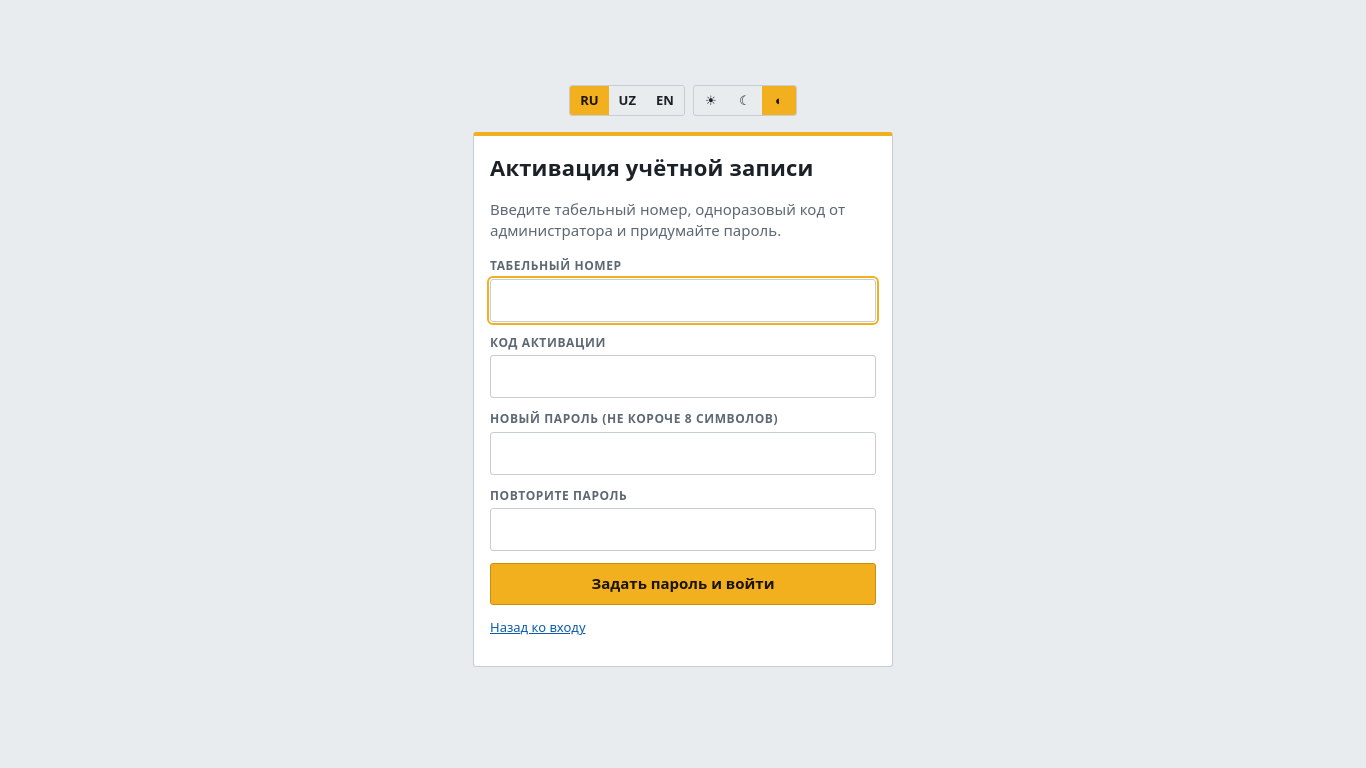
Test: активация › успешная активация входит в систему
Type "9" into the field labelled "Табельный номер".
click(683, 300); type("9")  # box left=490, top=278, right=876, bottom=322
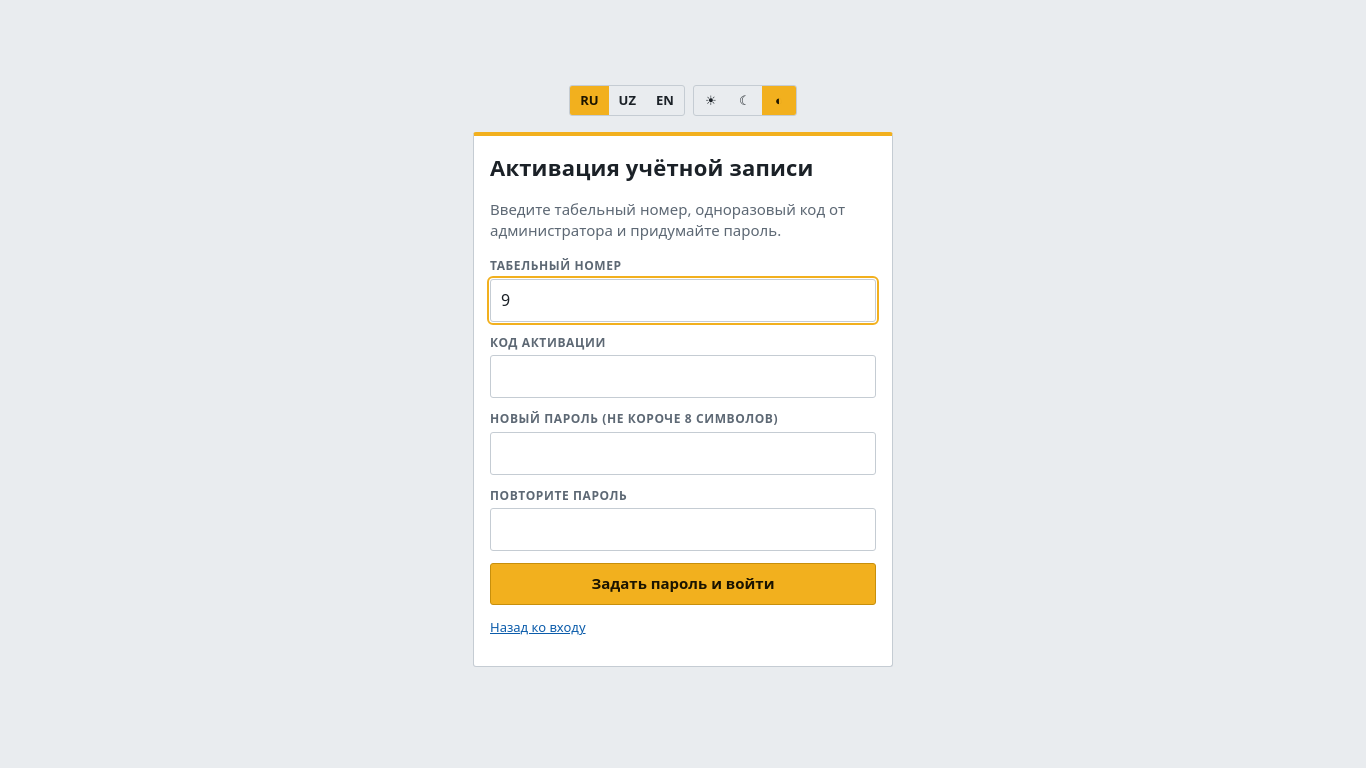
Type "ABCD-2345" into the field labelled "Код активации".
click(683, 377); type("ABCD-2345")  # box left=490, top=355, right=876, bottom=398
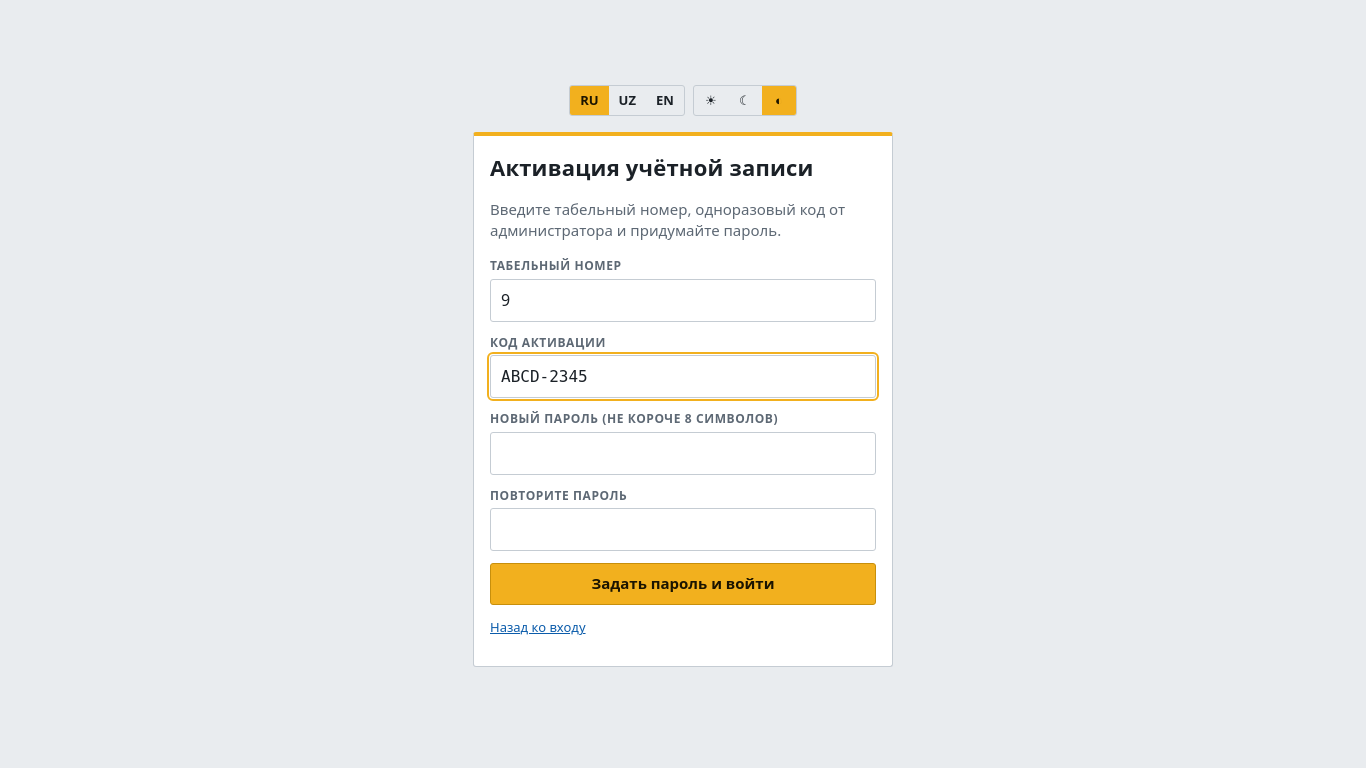
Type "password1" into the password field labelled "Новый пароль (не короче 8 символов)".
click(683, 453); type("password1")  # box left=490, top=432, right=876, bottom=475
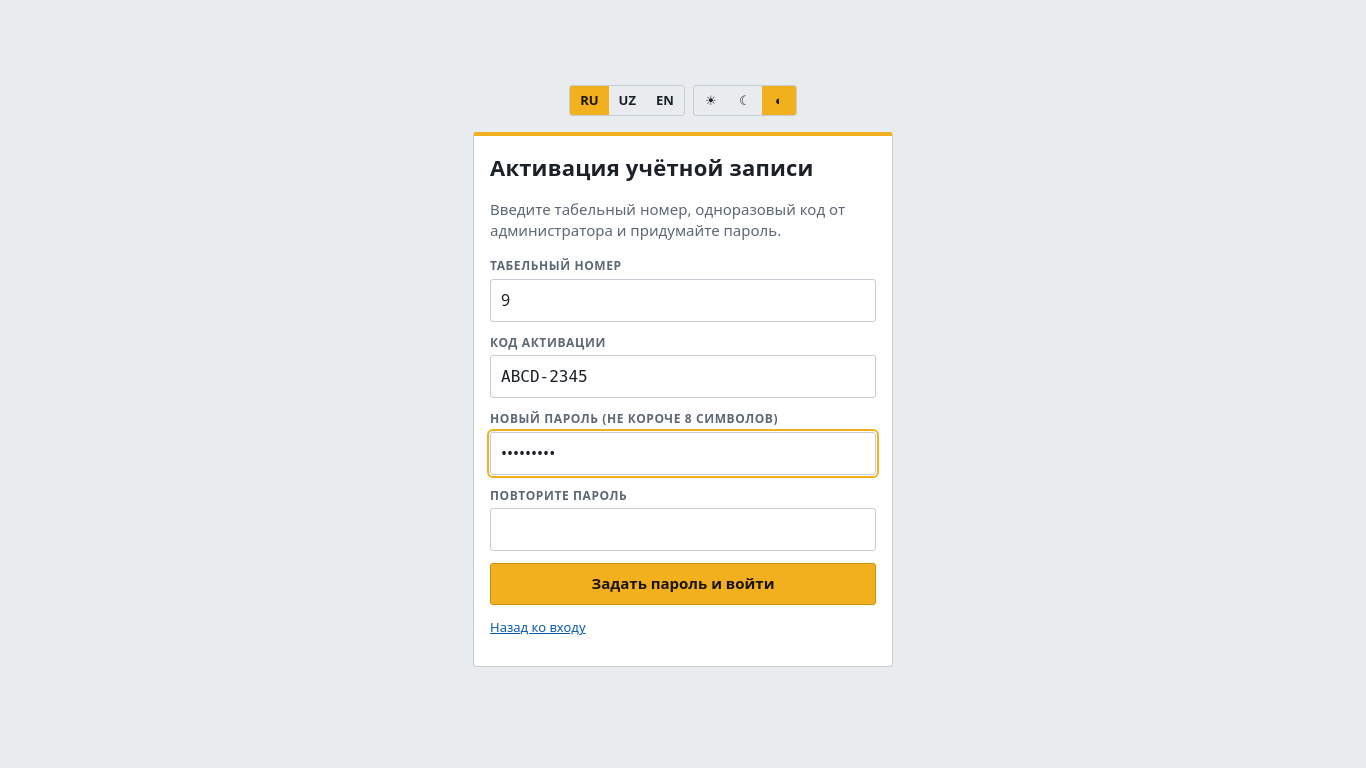
Type "password1" into the password field labelled "Повторите пароль".
click(683, 530); type("password1")  # box left=490, top=508, right=876, bottom=552
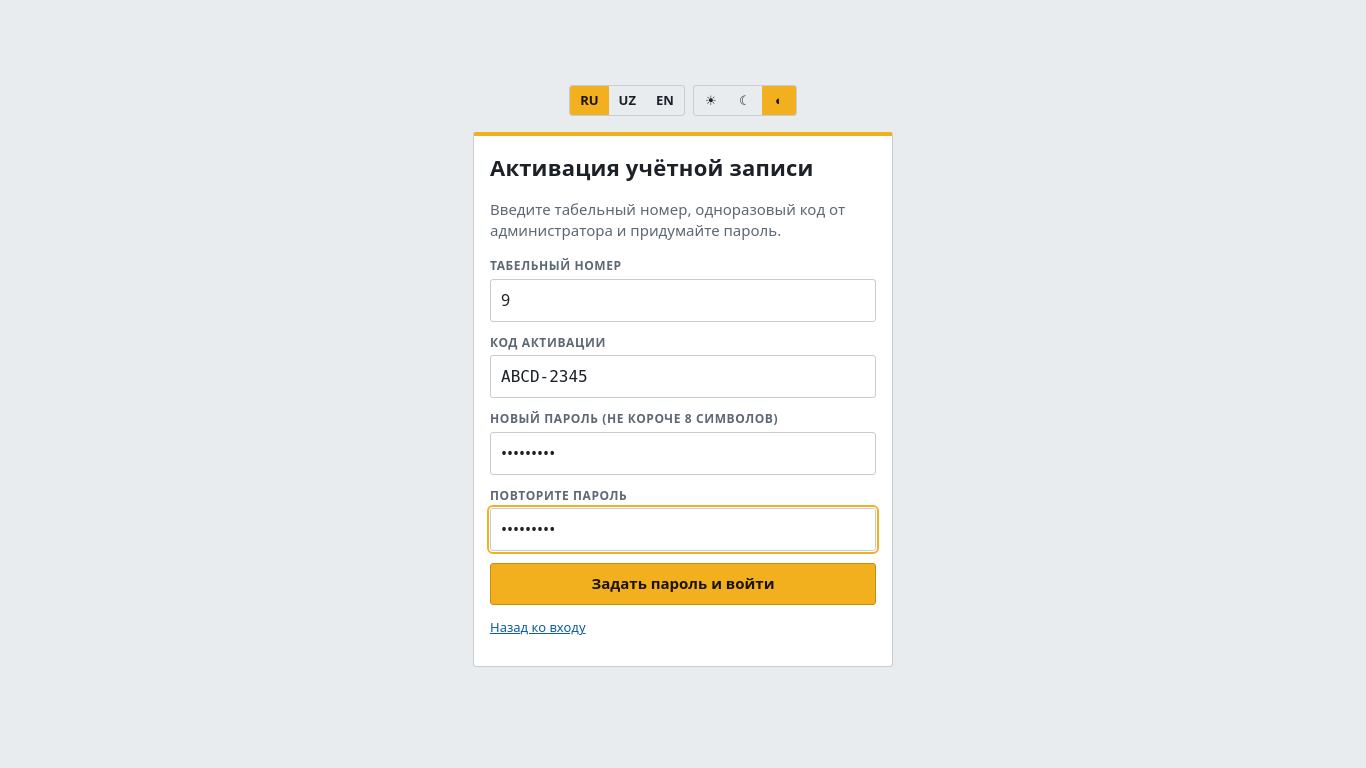
Click the button "Задать пароль и войти".
click(683, 584)  # box left=490, top=564, right=876, bottom=605
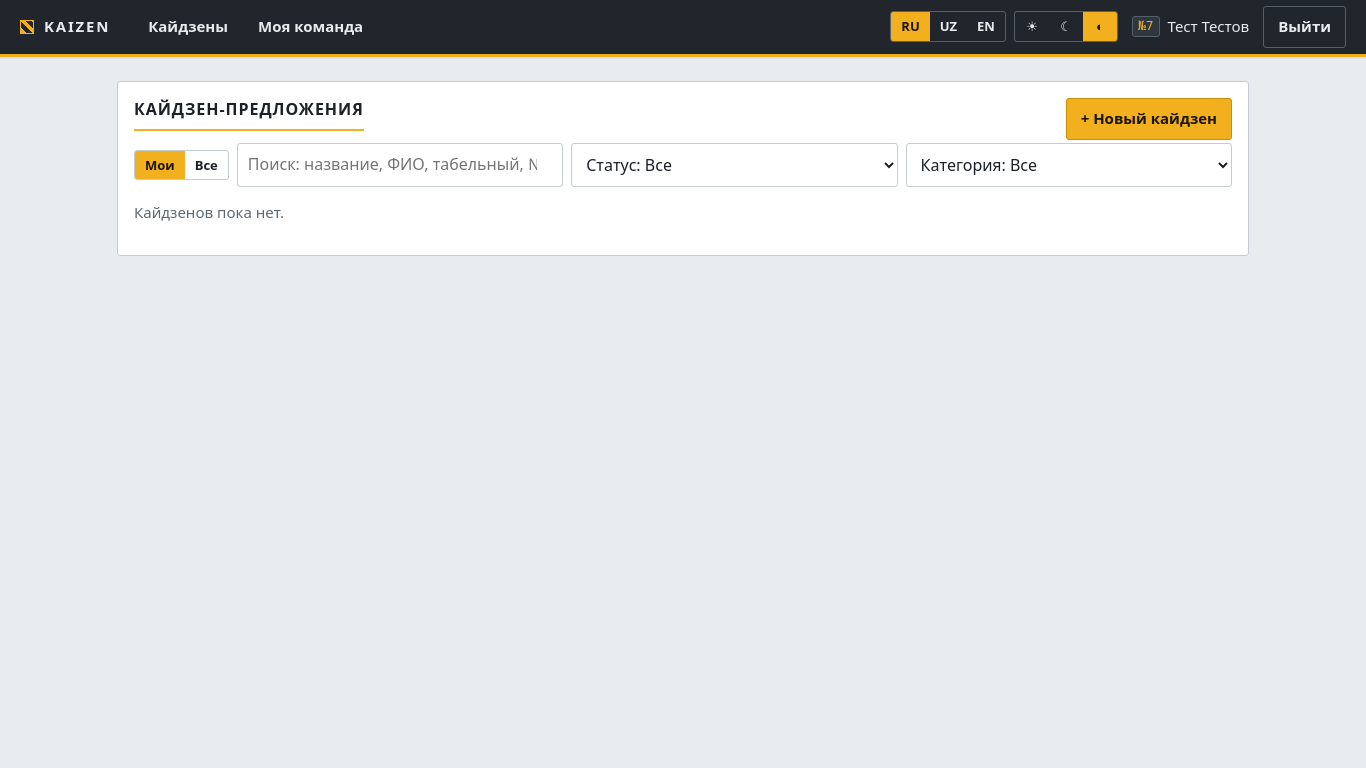
expect the heading "Кайдзен-предложения" is shown: met, box left=134, top=98, right=364, bottom=131
